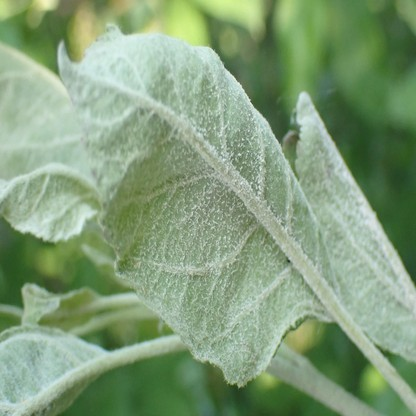powdery_mildew: (58, 21, 337, 387), (283, 92, 416, 361), (0, 42, 100, 245), (0, 323, 111, 416)
